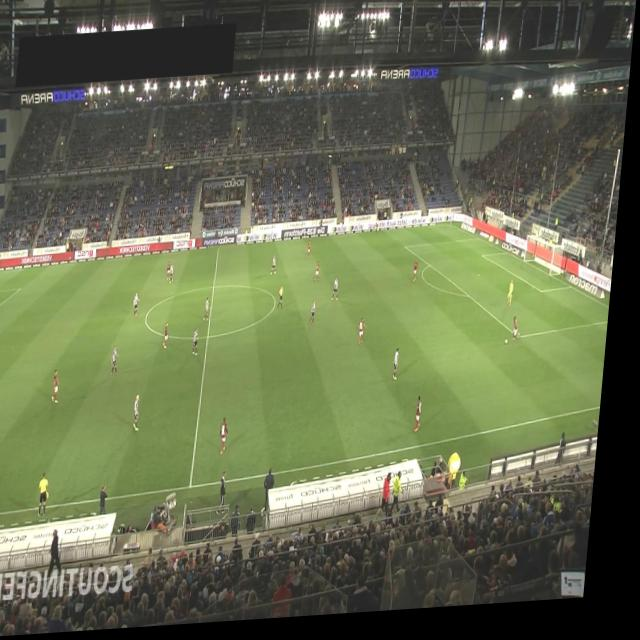goalkeeper: (513, 286, 521, 314)
player: (227, 420, 238, 458), (58, 369, 69, 405), (140, 397, 149, 433), (117, 347, 127, 377), (423, 401, 431, 438), (399, 354, 408, 386), (364, 322, 374, 350), (337, 280, 346, 306), (198, 330, 206, 358), (518, 323, 527, 347), (138, 294, 146, 320), (209, 300, 217, 324), (315, 304, 322, 330), (275, 258, 283, 280), (310, 243, 318, 264), (170, 324, 176, 351), (319, 266, 326, 287), (418, 265, 424, 288), (171, 262, 177, 284), (174, 267, 180, 287)
referee: (46, 472, 60, 518), (283, 289, 291, 313), (380, 222, 385, 238)
